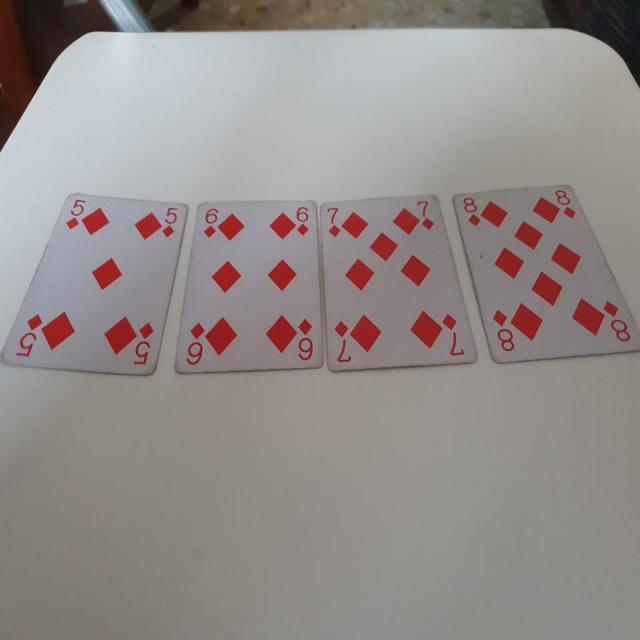5 of diamonds: (2, 191, 190, 381)
6 of diamonds: (174, 198, 324, 377)
7 of diamonds: (318, 191, 480, 374)
8 of diamonds: (450, 182, 640, 364)
